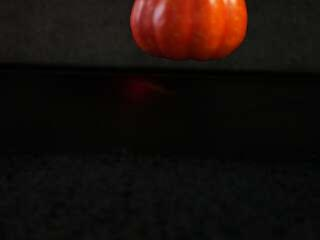Pumpkin: (126, 0, 252, 65)
